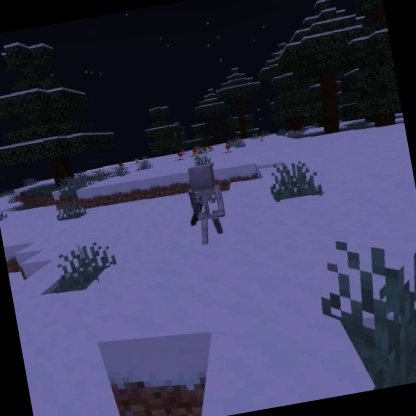skeleton: (178, 159, 233, 249)
